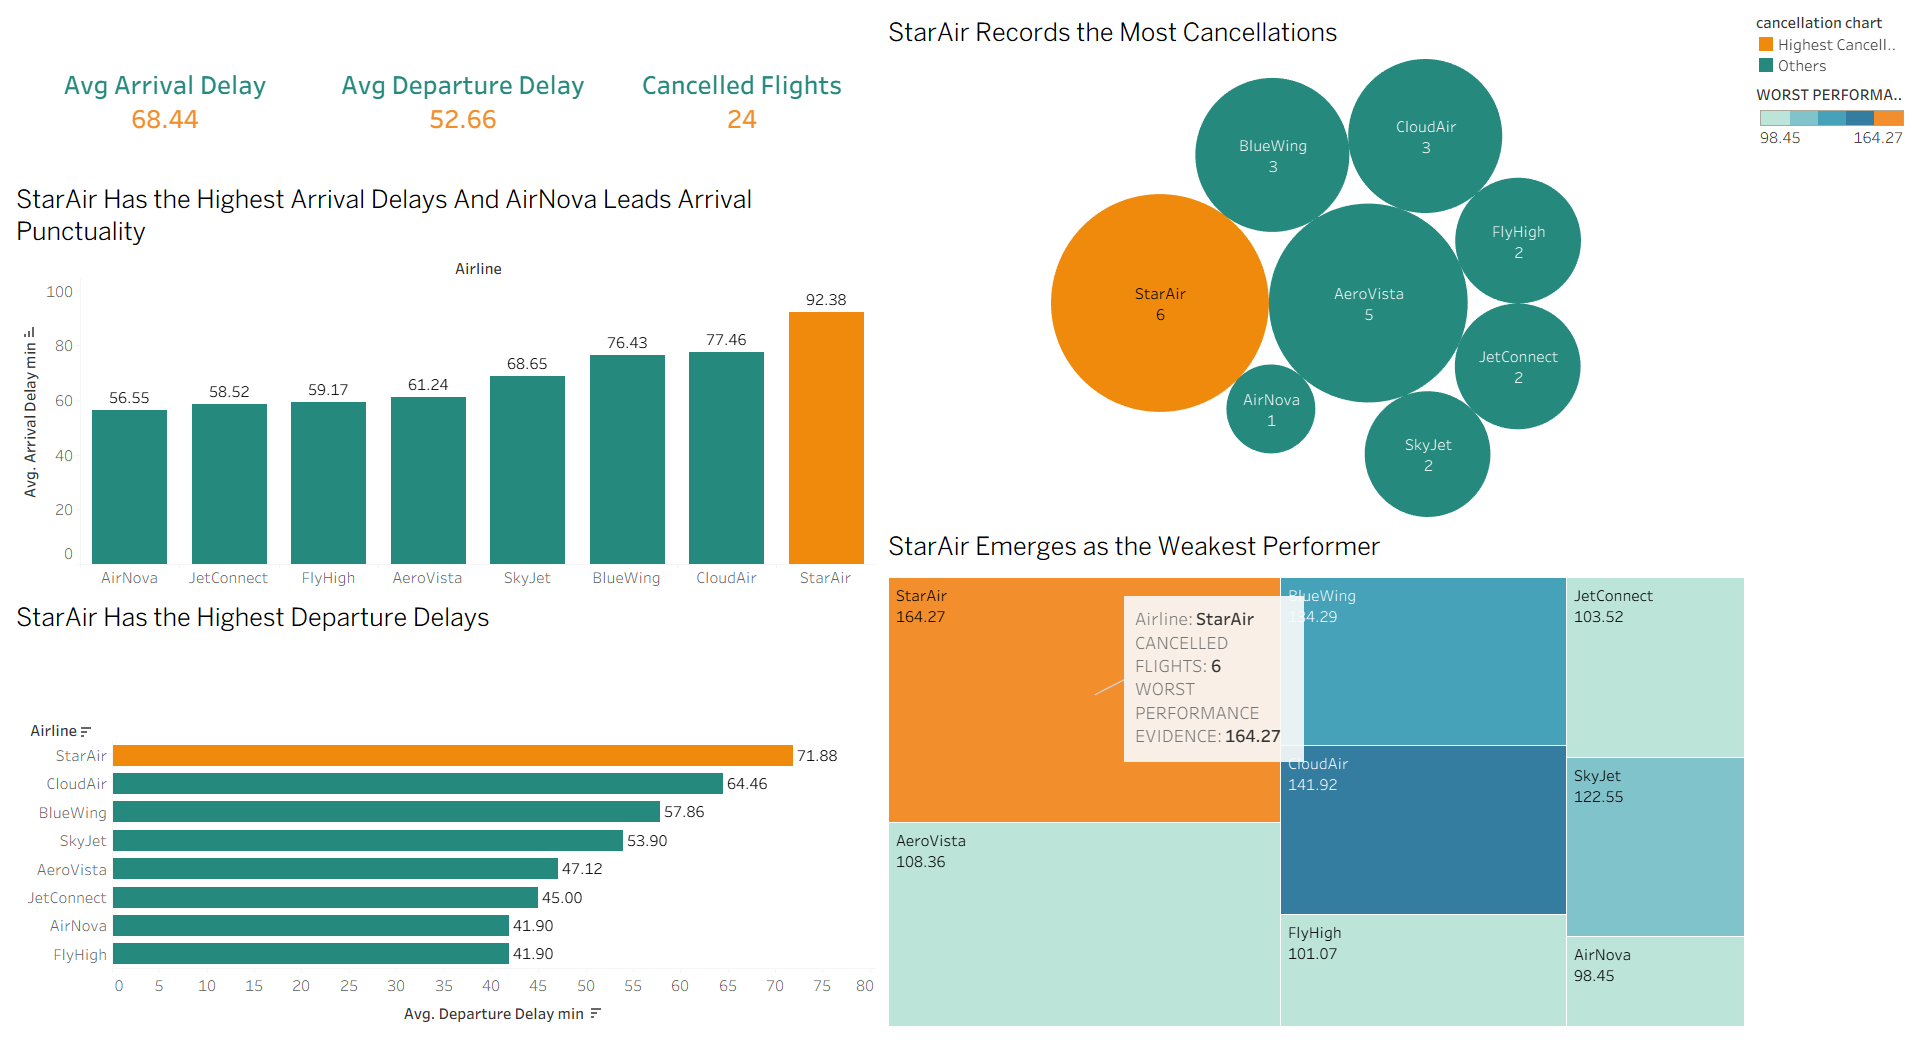

This screenshot's page, from the dashboard's own definition file:
{"tool":"tableau","page":{"name":"Dashboard 2","canvas":[1000,1000],"units":"permille","ordinal":1},"visuals":[{"type":"worksheet","title":"b.1 Avg Arrival Delay ","mark":"Automatic","box":[4.2,7.7,163.8,160.4]},{"type":"worksheet","title":"b.2 Departure Delay","mark":"Automatic","box":[167.9,7.7,146.6,160.4]},{"type":"worksheet","title":"b.3 Cancelled Flights","mark":"Automatic","box":[314.5,7.7,143.8,160.4]},{"type":"worksheet","title":"B3.MOST CANCELLED FLIGHTS BY AIRLINE","mark":"Circle","box":[458.3,7.7,454.2,492.3]},{"type":"legend","title":"B3.MOST CANCELLED FLIGHTS BY AIRLINE","param":"[federated.0cniu2b1ezr26e1fi3ztb1c9pnie].[none:Calculation_0860136574210054:nk]","box":[912.5,7.7,83.3,69]},{"type":"legend","title":"B5.WORST PERFORMING AIRLINE","param":"[federated.0cniu2b1ezr26e1fi3ztb1c9pnie].[usr:Calculation_0772175286345729:qk]","box":[912.5,76.7,83.3,70]},{"type":"worksheet","title":"B1/B2.HIGHEST/LOWEST AVG ARRIVAL DELAY BY AIRLINE","mark":"Automatic","rows":["Arrival_Delay_min"],"cols":["Airline"],"box":[4.2,168,454.2,400.9]},{"type":"worksheet","title":"B5.WORST PERFORMING AIRLINE","mark":"Automatic","box":[458.3,500,454.2,492.3]},{"type":"worksheet","title":"B4.HIGHEST AVG DEPARTURE DELAY BY AIRLINE","mark":"Automatic","rows":["Airline"],"cols":["Departure_Delay_min"],"box":[4.2,569,454.2,423.4]}]}

Visuals, with their boxes on the dashboard's canvas, which has no fixed pixel size, in thousandths of its width and height (x1, y1, x2, y2). These are canvas units, not pixel positions in the 1917x1043 screenshot, which may show the page scaled, cropped or inside an application window:
"b.1 Avg Arrival Delay " worksheet: 4 8 168 168
"b.2 Departure Delay" worksheet: 168 8 314 168
"b.3 Cancelled Flights" worksheet: 314 8 458 168
"B3.MOST CANCELLED FLIGHTS BY AIRLINE" worksheet (Circle marks): 458 8 912 500
"B3.MOST CANCELLED FLIGHTS BY AIRLINE" legend: 912 8 996 77
"B5.WORST PERFORMING AIRLINE" legend: 912 77 996 147
"B1/B2.HIGHEST/LOWEST AVG ARRIVAL DELAY BY AIRLINE" worksheet: 4 168 458 569
"B5.WORST PERFORMING AIRLINE" worksheet: 458 500 912 992
"B4.HIGHEST AVG DEPARTURE DELAY BY AIRLINE" worksheet: 4 569 458 992
